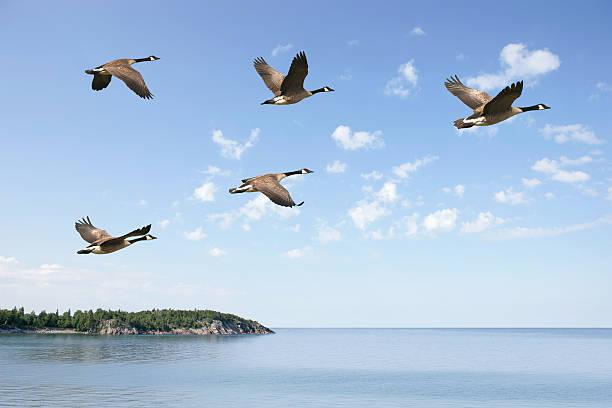Canadian-Goose: (442, 75, 551, 131), (251, 50, 335, 108), (84, 53, 161, 102), (230, 165, 312, 210), (75, 217, 156, 258)
